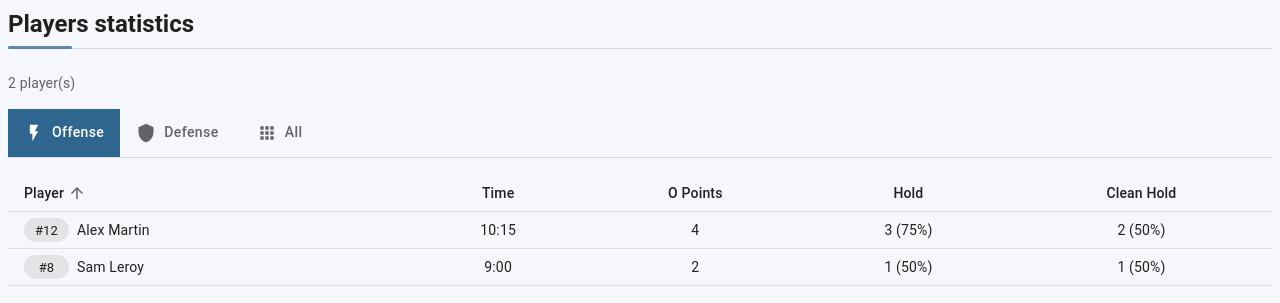
PlayerStatistics › renders the All tab and combined desktop columns
What coordinates should you click on to do the following:
click the tab "All"
I would click on:
 (280, 133)
Its box is [235,109,325,157].
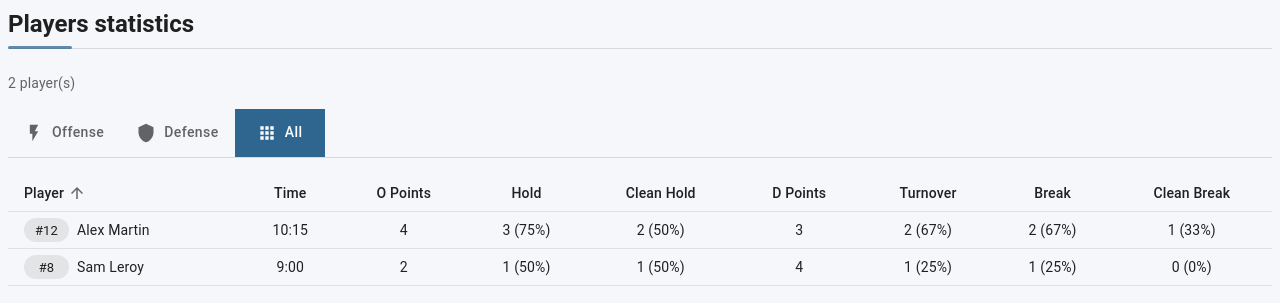
Expected: the button named "Number of completed defensive points played" is shown, [772,181,826,205]
Expected: the button named "Defense points with at least one possession turnover." is shown, [900,181,956,205]
Expected: the button named "Defense points won out of all defense points." is shown, [1034,181,1071,205]
